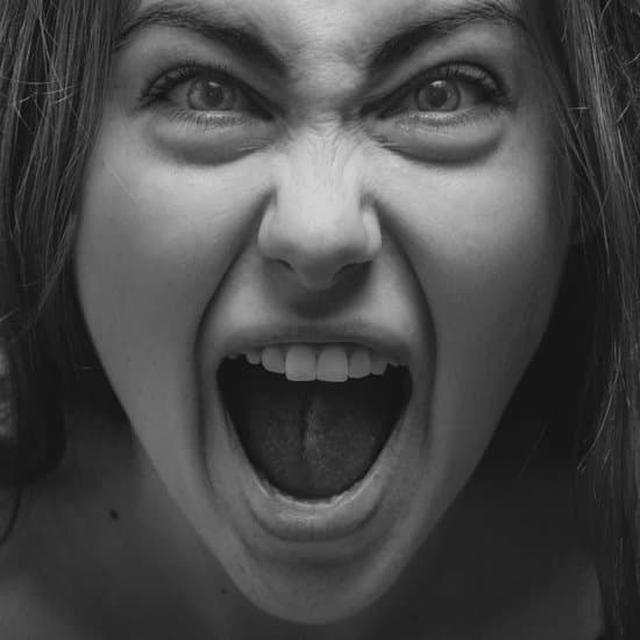Angry: (74, 0, 576, 622)
